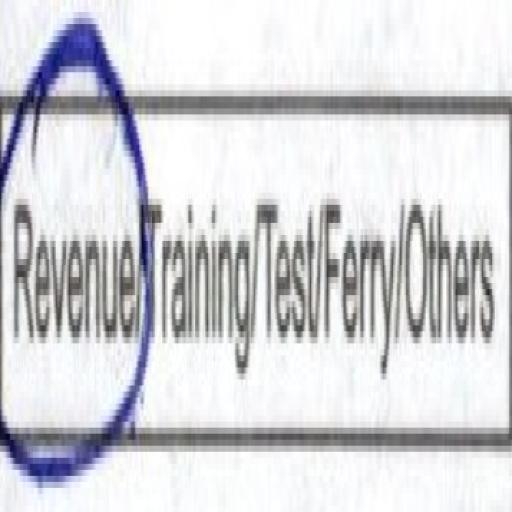check: (0, 0, 143, 475)
